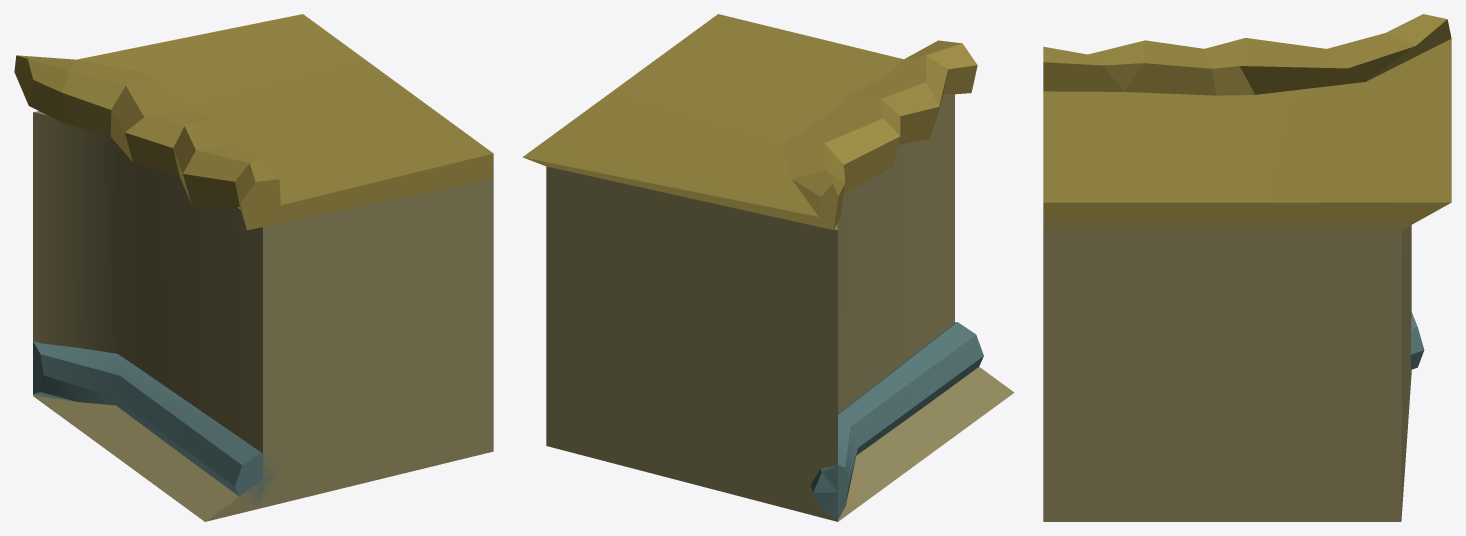
Rendered from Int_12_Wall_Cross_Centerr_Up__20.fbx.
3 views of the same model, side by side, from view 1: azimuth 30°, elevation 25°; view 2: azimuth 150°, elevation 25°; view 3: azimuth 270°, elevation 25° (orthographic). The views are drawn at different scales.
Parts seen in each view (by area): view 1: Int_12_Wall_Cross_Centerr_Up__20; view 2: Int_12_Wall_Cross_Centerr_Up__20; view 3: Int_12_Wall_Cross_Centerr_Up__20.
Boxes of the visible parts, <box> form: Int_12_Wall_Cross_Centerr_Up__20: <box>14,14,493,521</box>; Int_12_Wall_Cross_Centerr_Up__20: <box>523,14,1014,521</box>; Int_12_Wall_Cross_Centerr_Up__20: <box>1043,14,1451,521</box>.
Bounding box in the file's own units: 0.9944 × 1.1 × 1.14.
